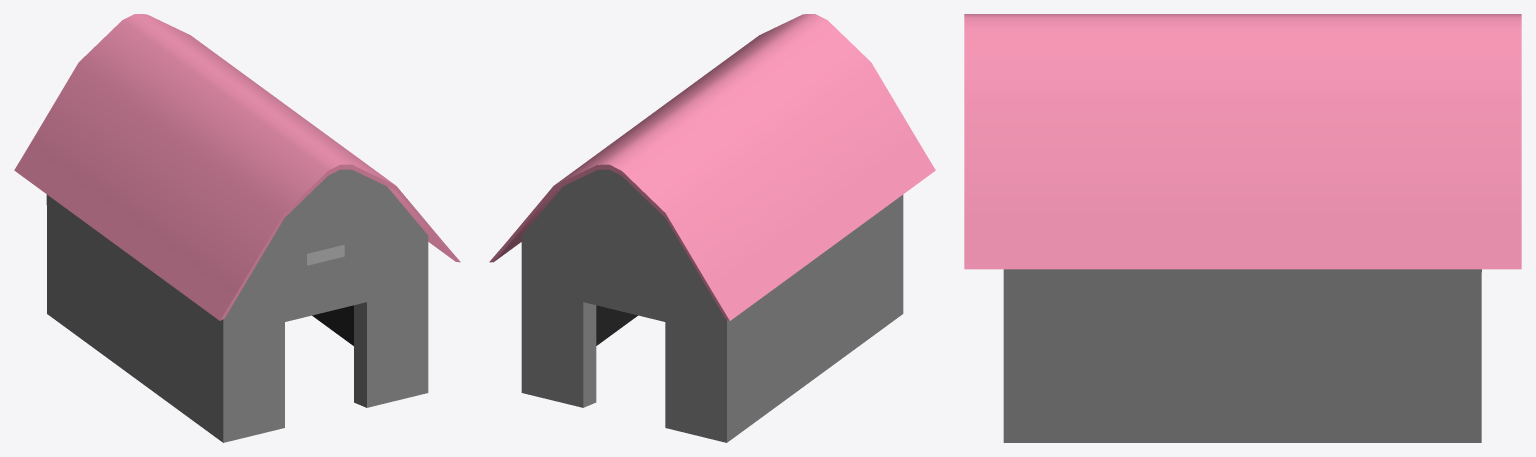
File: Barn.FBX
3 views of the same model, side by side, from view 1: azimuth 30°, elevation 25°; view 2: azimuth 150°, elevation 25°; view 3: azimuth 270°, elevation 25° (orthographic). The views are drawn at different scales.
Visible parts, largest first — view 1: barn; view 2: barn; view 3: barn.
Part boxes in pixels (x1,y1,x2,y2): barn: (14, 14, 460, 442); barn: (489, 14, 935, 442); barn: (964, 14, 1521, 442).
Bounding box in the file's own units: 94.96 × 99.46 × 141.
